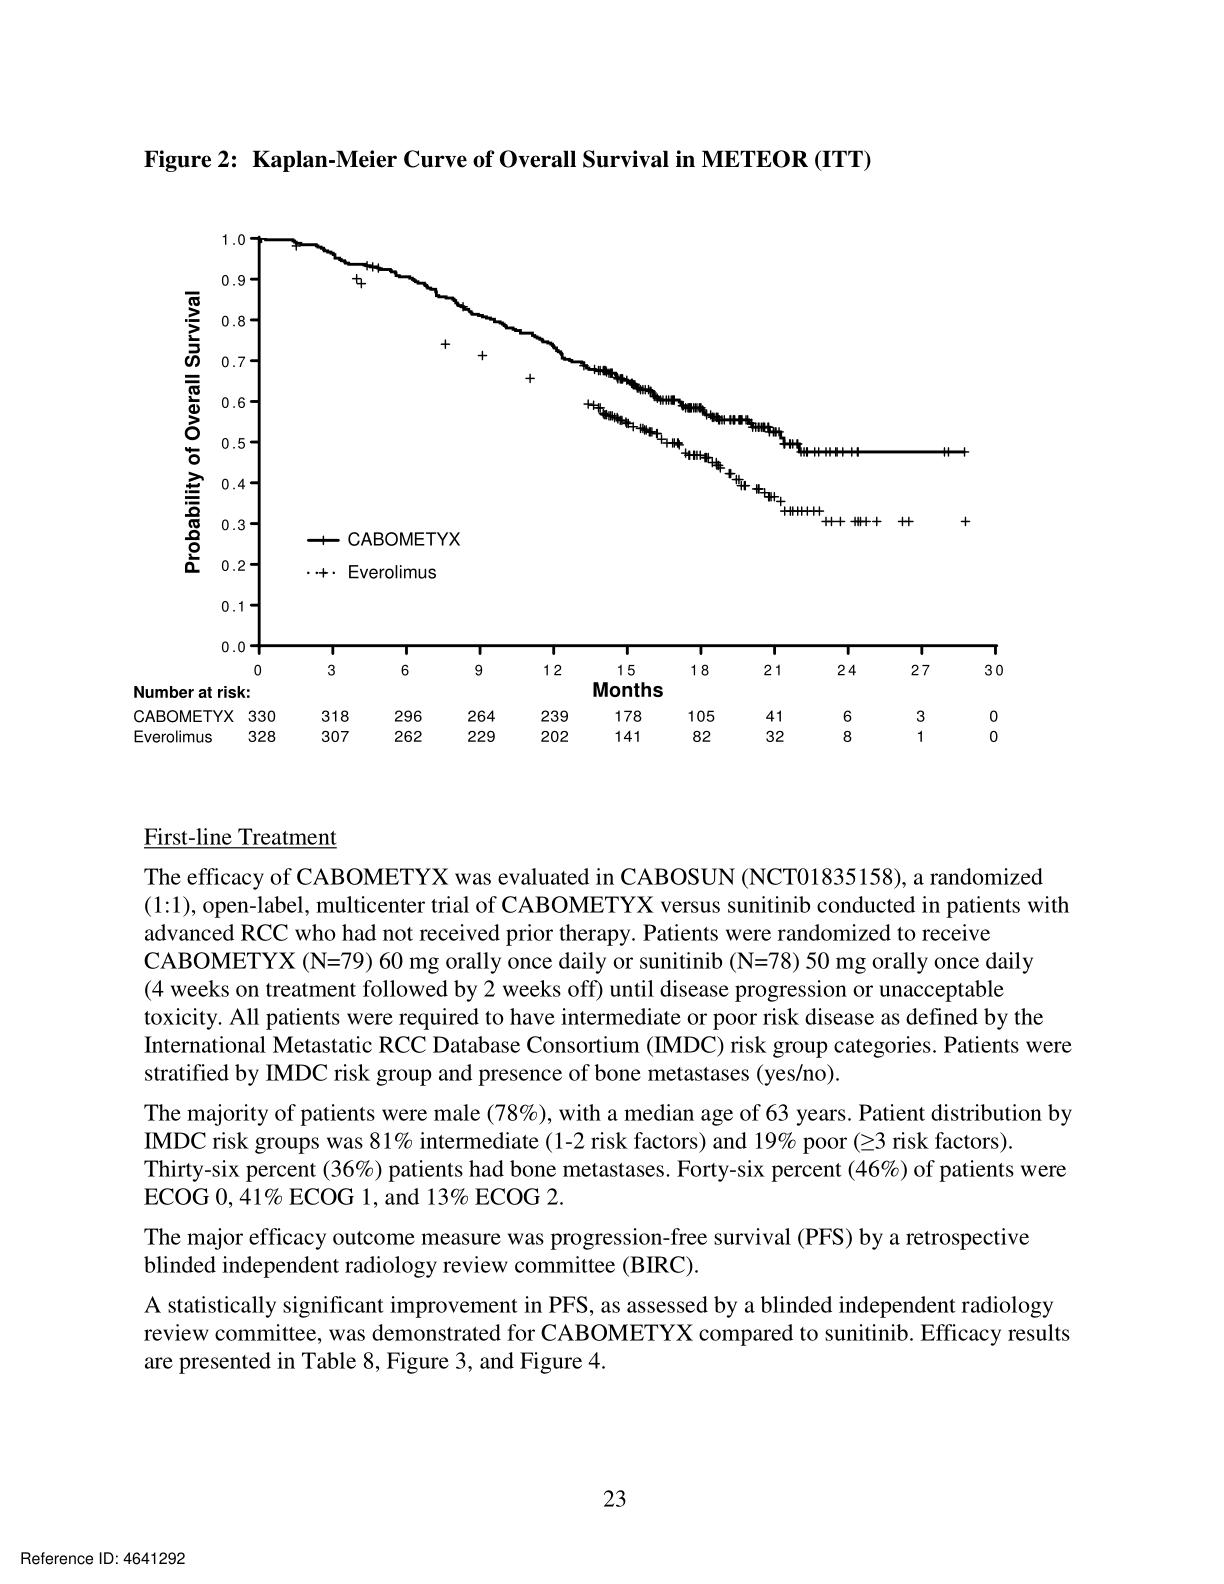nolines: (129, 705, 1018, 750)
